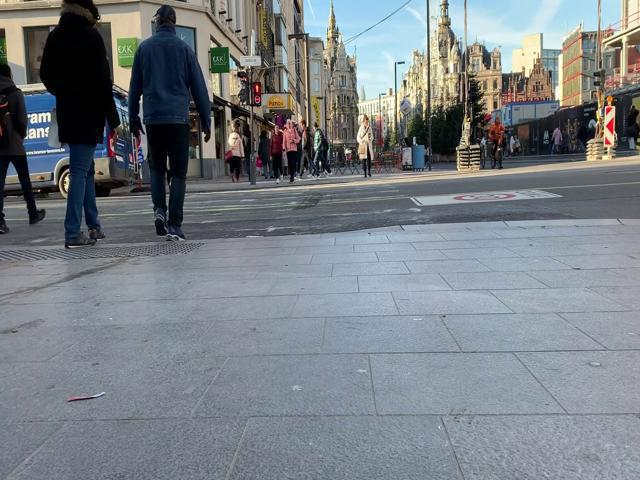shoe: (65, 233, 97, 248), (154, 211, 168, 235), (167, 226, 185, 241), (29, 208, 45, 224)
